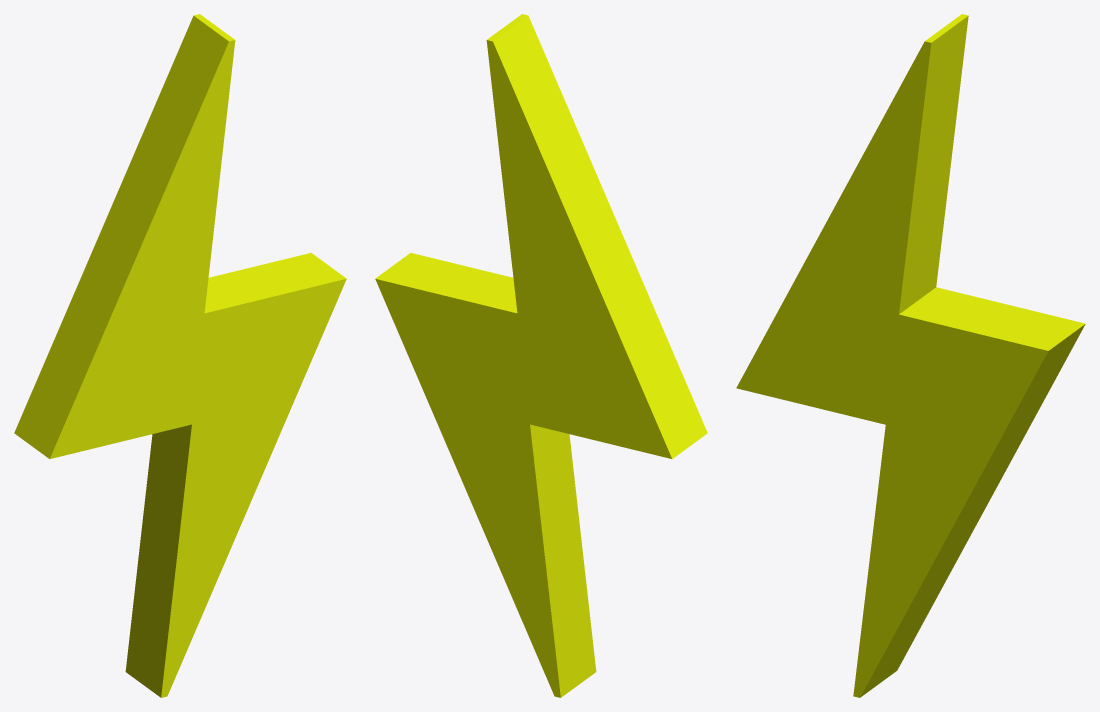
The model's file is LightningBolt.fbx.
The picture shows the model from 3 angles, left to right: view 1: azimuth 30°, elevation 25°; view 2: azimuth 150°, elevation 25°; view 3: azimuth 330°, elevation 25°; orthographic projection. The views are drawn at different scales.
Visible parts, largest first — view 1: polySurface2; view 2: polySurface2; view 3: polySurface2.
Part boxes in pixels (x1,y1,x2,y2): polySurface2: (14,14,346,697); polySurface2: (375,14,707,697); polySurface2: (736,14,1085,697).
Bounding box in the file's own units: 24.68 × 50.77 × 5.11.
